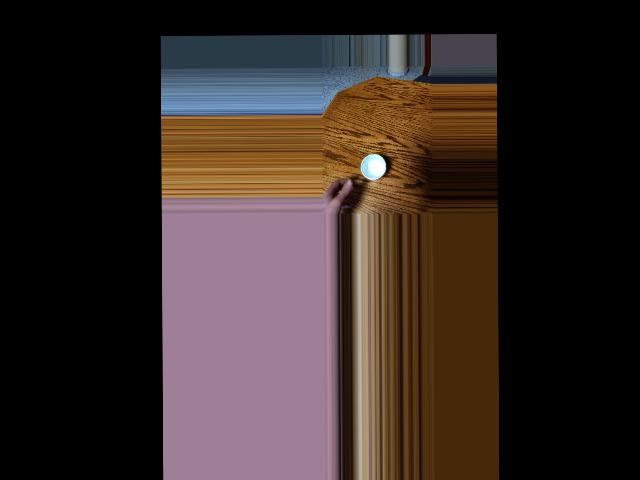cotage: (358, 153, 385, 183)
